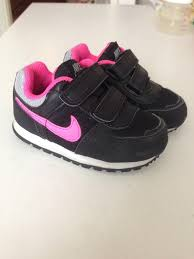nike: (16, 97, 83, 143)
